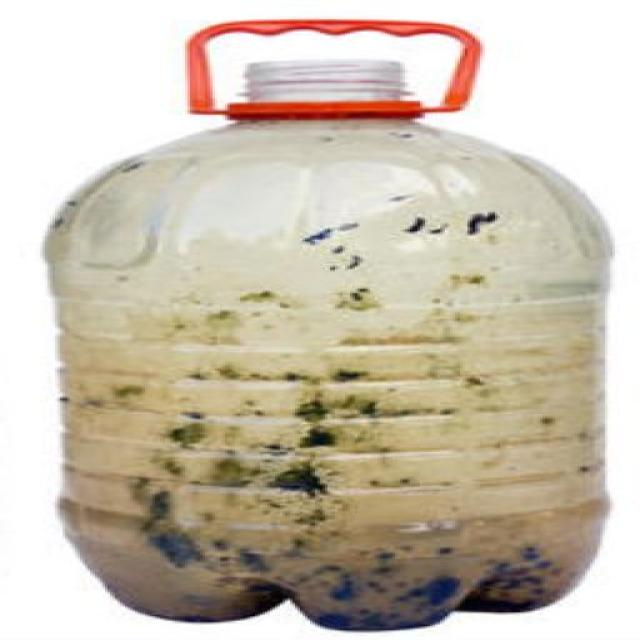general: (40, 18, 615, 631)
